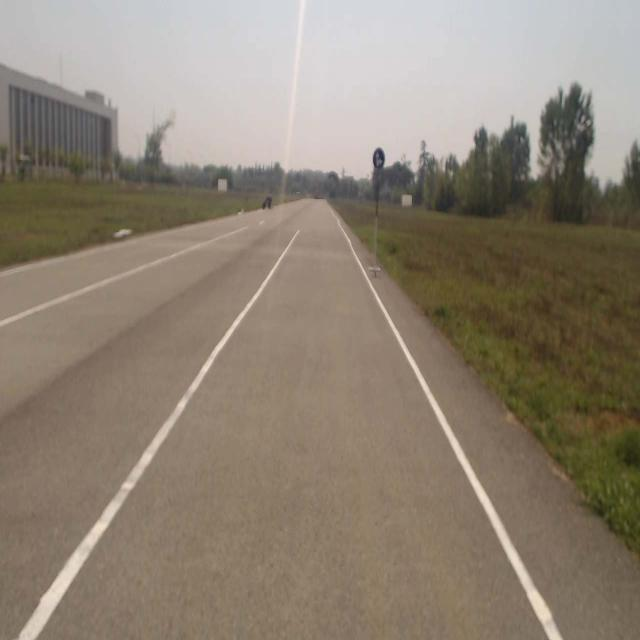ilerisag: (372, 148, 384, 168)
